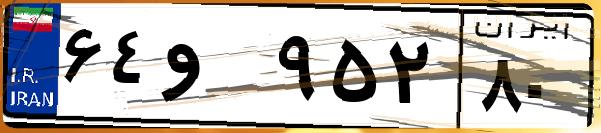0: (525, 38, 570, 115)
2: (385, 28, 445, 110)
4: (110, 28, 158, 98)
5: (330, 28, 385, 110)
6: (57, 26, 110, 100)
8: (475, 38, 525, 113)
9: (270, 28, 330, 110)
و: (158, 20, 270, 120)
